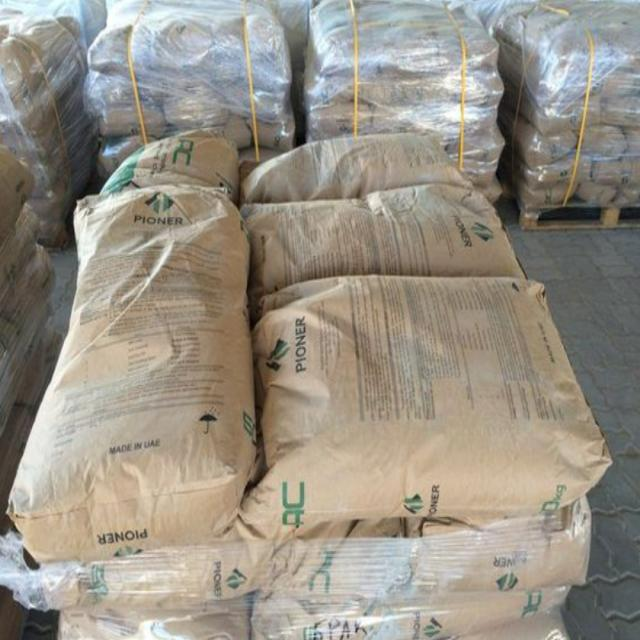KantongSemen: (8, 190, 254, 552), (259, 288, 609, 534), (237, 198, 527, 280)
